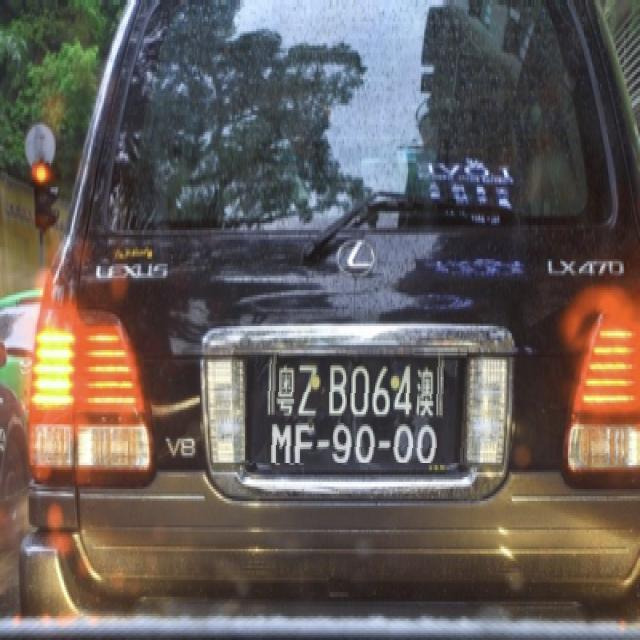licence: (245, 350, 467, 463)
